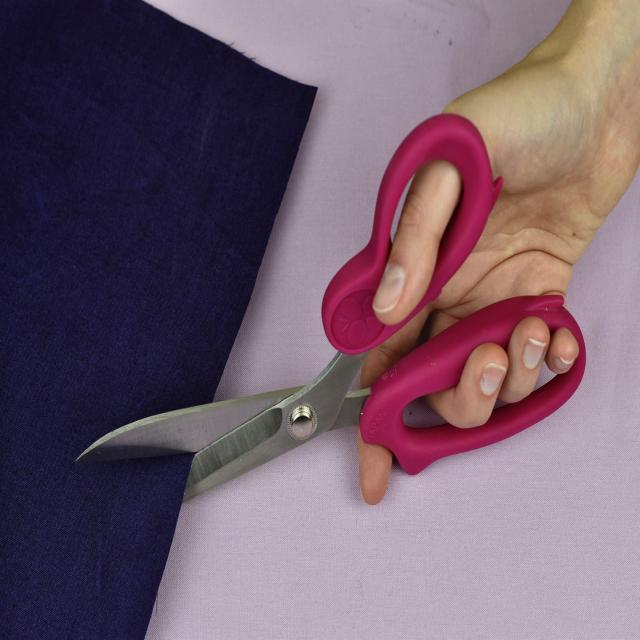scissors: (72, 109, 589, 570)
